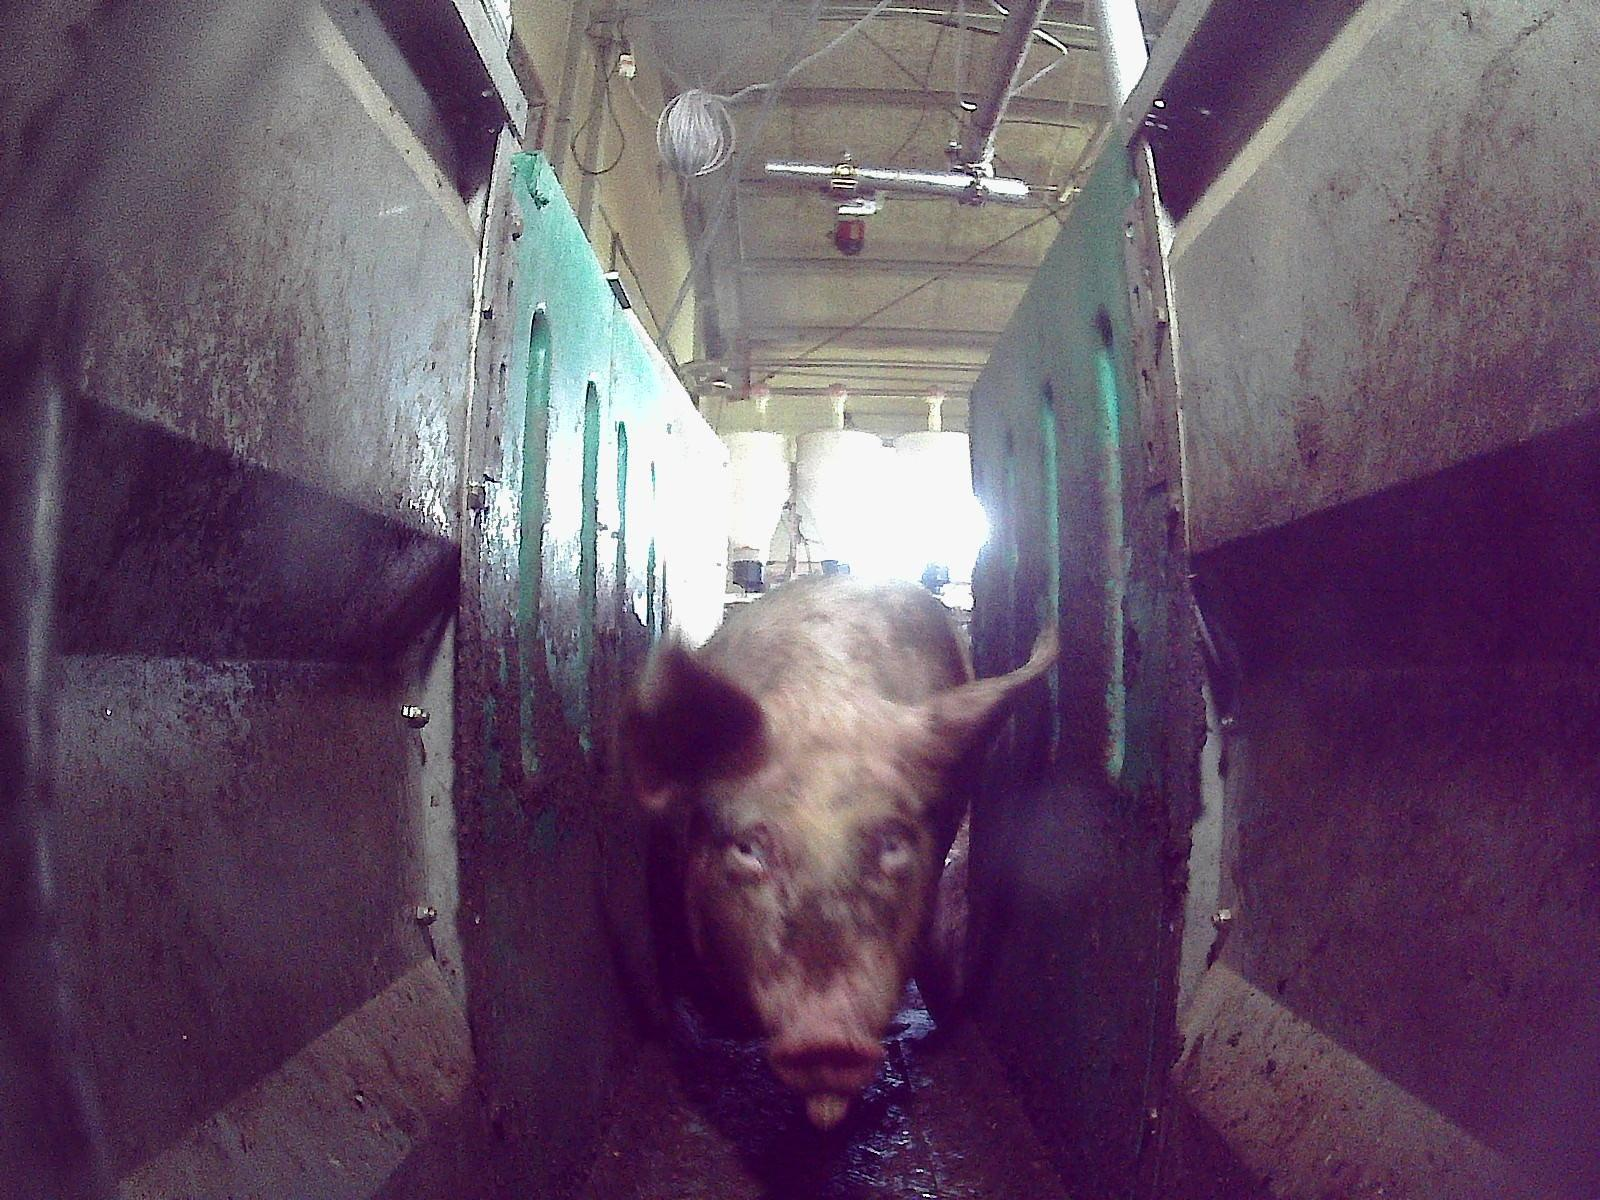Face: (686, 717, 934, 1091)
